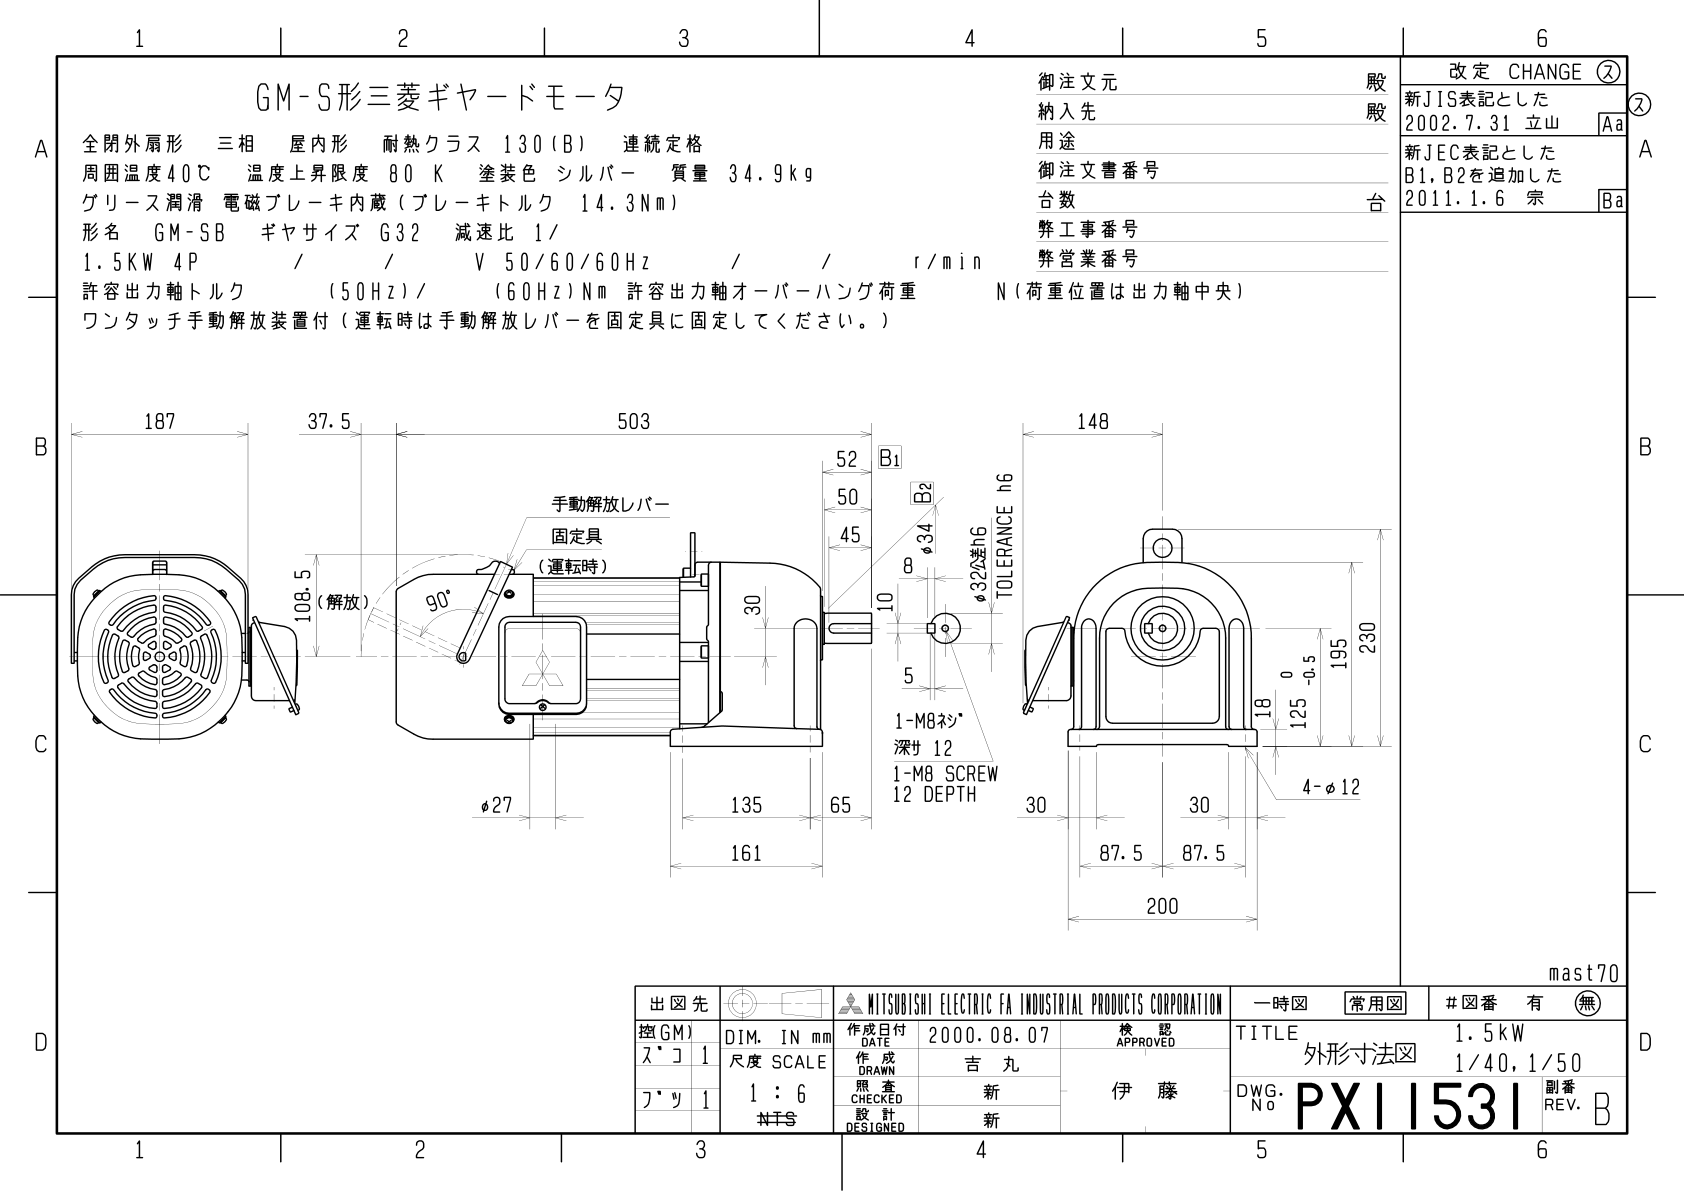GM_S_手動ブレーキ＿三相_脚: (63, 375, 1389, 978)
